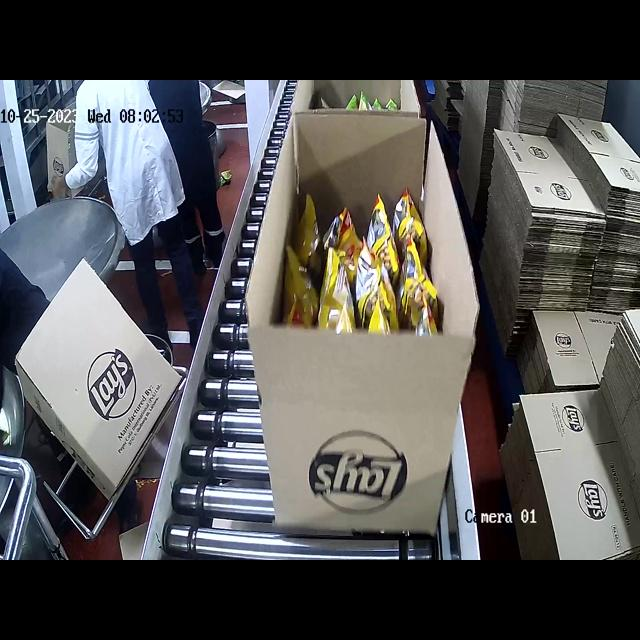salted: (296, 180, 420, 343)
yogurt: (320, 95, 415, 117)
